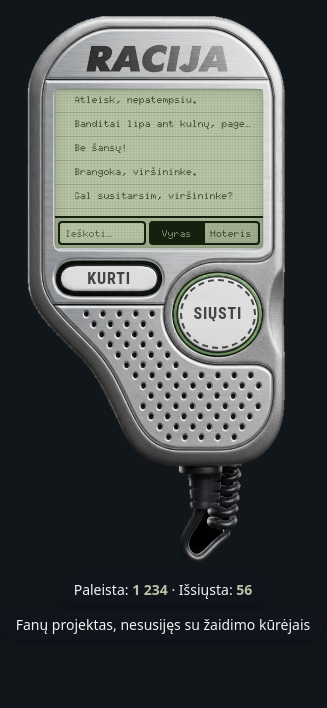
Test case: Radio › KURTI mode (speech) › SIŲSTI › without cached speech generates, says "press again", marks the key steady, does not share
The image size is (327, 708).
Click the button with class "skey" showing "KURTI" at x=109, y=279, box [56, 261, 162, 296]
Wait 50 ms
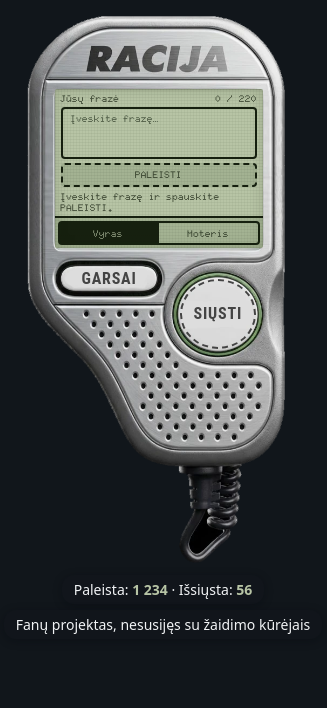
Type "Labas" into the text box labelled "Jūsų frazė" at x=159, y=132, box [60, 106, 257, 158]
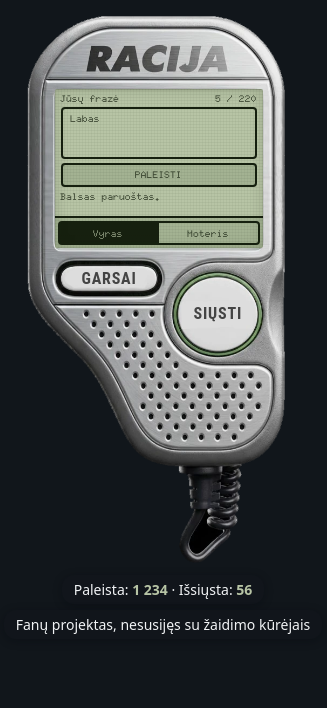
Click the button with class "skey" showing "SIŲSTI" at x=218, y=315, box [174, 273, 262, 356]
Wait 50 ms
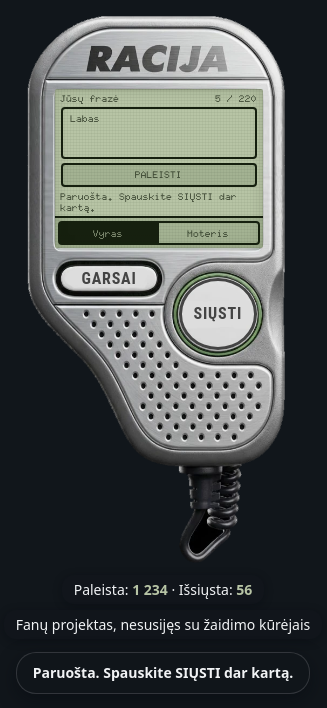
Expected: the text "Paruošta. Spauskite SIŲSTI dar kartą." is shown, [60, 190, 257, 214]
